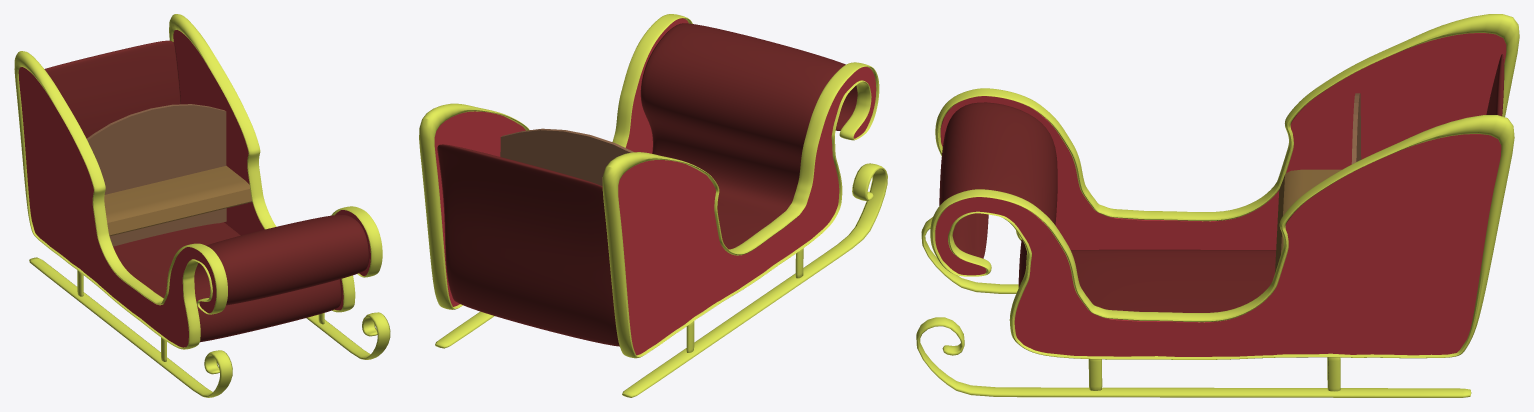
Rendered from uploads_files_2748084_sled.fbx.
3 views of the same model, side by side, from view 1: azimuth 30°, elevation 25°; view 2: azimuth 150°, elevation 25°; view 3: azimuth 270°, elevation 25° (orthographic). The views are drawn at different scales.
Visible parts, largest first — view 1: Cube, Plane, Plane.001, Cube.001, Cube.002, Cube.003, Cube.005; view 2: Cube, Plane, Plane.001, Cube.003, Cube.001, Cube.005; view 3: Plane, Cube, Plane.001, Cube.003, Cube.002, Cube.005, Cube.001.
Part boxes in pixels (x1,y1,x2,y2): Cube: (44,40,369,342); Plane: (18,30,370,347); Plane.001: (14,14,382,349); Cube.001: (87,104,226,246); Cube.002: (104,165,252,236); Cube.003: (29,257,390,397); Cube.005: (77,270,324,361); Cube: (437,23,857,346); Plane: (434,18,876,355); Plane.001: (419,14,879,358); Cube.003: (435,163,887,397); Cube.001: (500,128,633,186); Cube.005: (686,248,803,352); Plane: (935,33,1506,356); Cube: (939,54,1504,312); Plane.001: (930,14,1519,359); Cube.003: (916,217,1471,397); Cube.002: (1275,169,1341,272); Cube.005: (1088,357,1340,391); Cube.001: (1351,93,1361,164).
Size of the model in its own units: 378 by 422 by 817.
